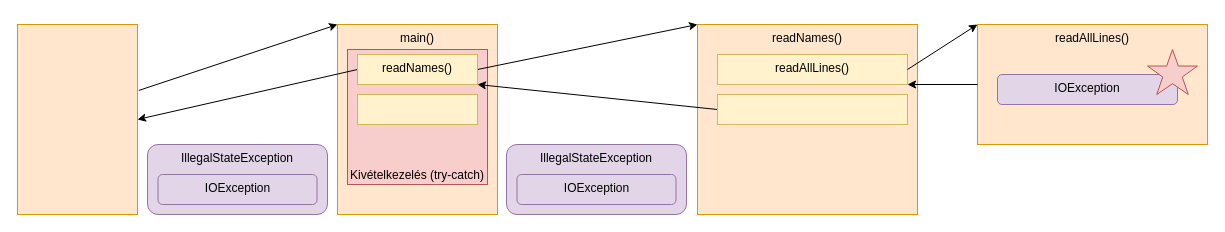
The diagram is 1225 pixels wide and 232 high, and some of its shapes have lost their labels. The centre of each missing label's shape, as x and y in pixels:
"JVM" goes at (x=77, y=119).
"System.out.println()" goes at (x=417, y=109).
"throw new IllegalStateException" goes at (x=812, y=109).
